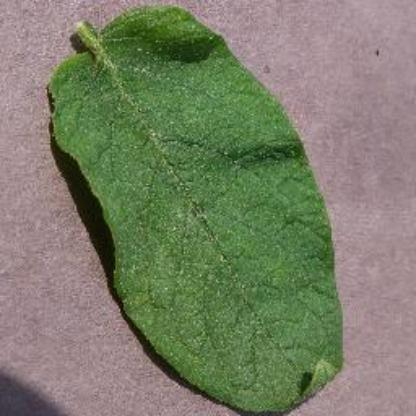Healthy-plant: (31, 0, 357, 416)
